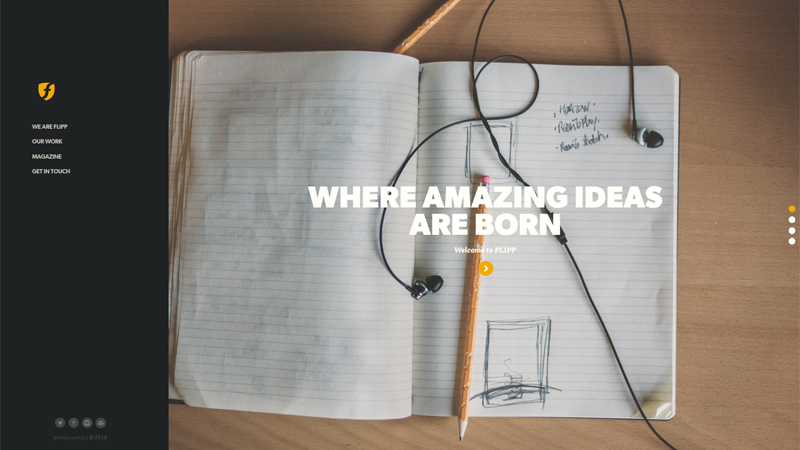Image: (169, 0, 799, 450)
Side Bar: (0, 0, 169, 447)
